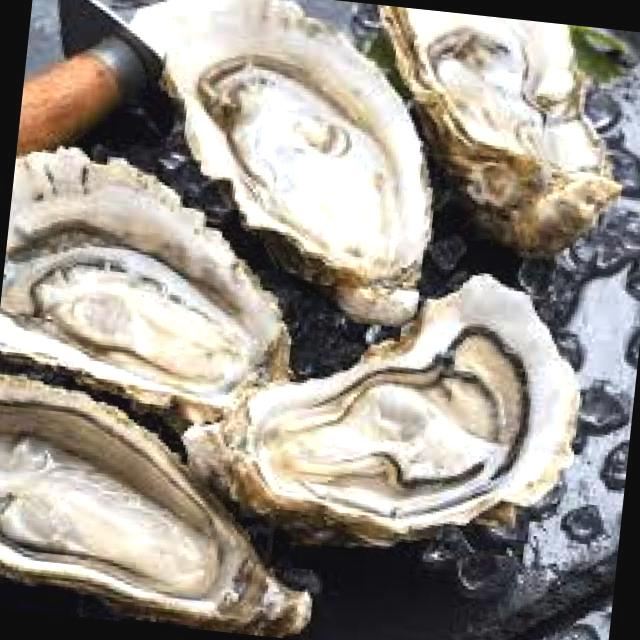Oyster-Open: (185, 275, 579, 546), (136, 0, 432, 324), (0, 374, 311, 636), (0, 148, 290, 422), (382, 10, 624, 254)
